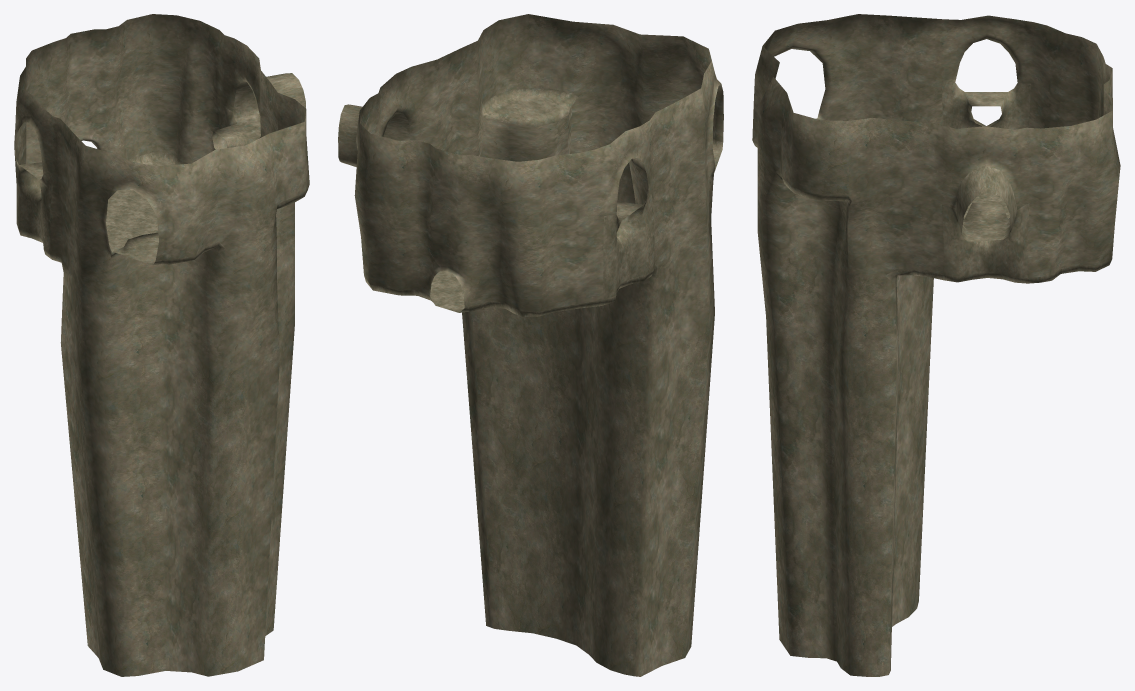
File: OVERHILL_A_01_CANYON_CAVE.fbx
3 views of the same model, side by side, from view 1: azimuth 30°, elevation 25°; view 2: azimuth 150°, elevation 25°; view 3: azimuth 270°, elevation 25° (orthographic). The views are drawn at different scales.
Parts seen in each view (by area): view 1: OVERHILL_A_01_CANYON_CAVE; view 2: OVERHILL_A_01_CANYON_CAVE; view 3: OVERHILL_A_01_CANYON_CAVE.
Boxes of the visible parts, x1,y1,x2,y2 form: OVERHILL_A_01_CANYON_CAVE: (14, 14, 309, 676); OVERHILL_A_01_CANYON_CAVE: (338, 14, 723, 676); OVERHILL_A_01_CANYON_CAVE: (752, 14, 1120, 676).
Bounding box in the file's own units: 185283 × 341074 × 200184.
1 material, 1 textured.
